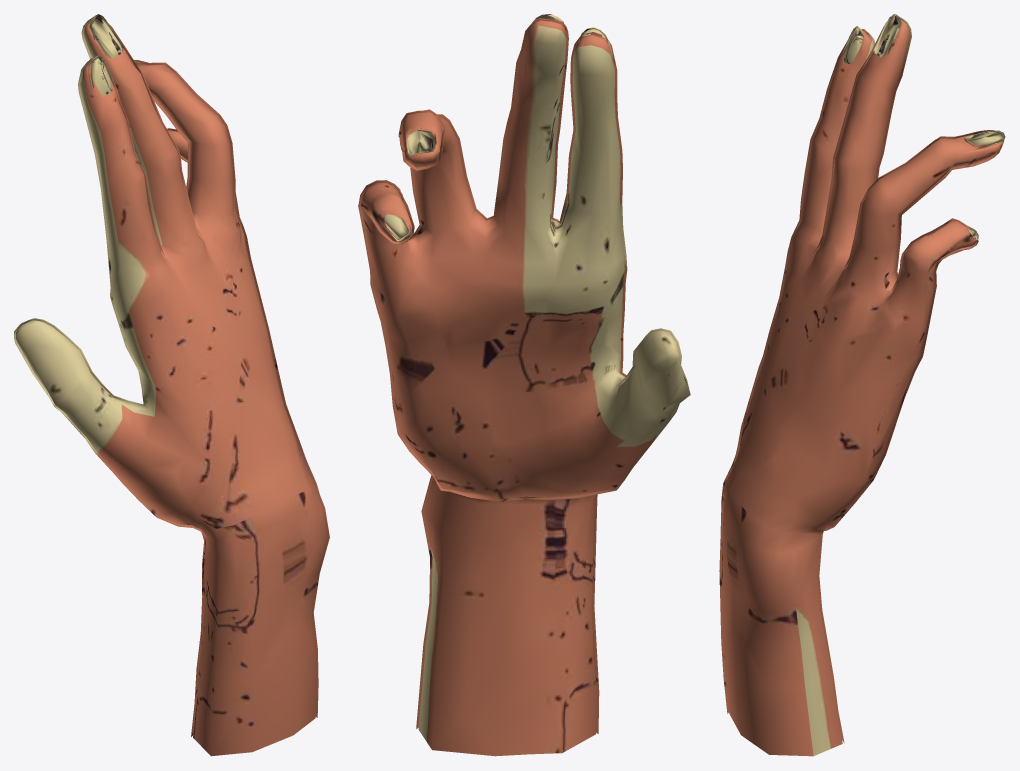
Rendered from hand-cartoon.glb.
3 renders of one model, left to right at view 1: azimuth 30°, elevation 25°; view 2: azimuth 150°, elevation 25°; view 3: azimuth 270°, elevation 25°, orthographic. The views are drawn at different scales.
Parts seen in each view (by area): view 1: retopohighres_bands_posed.003, retopohighres_bands_posed; view 2: retopohighres_bands_posed.003, retopohighres_bands_posed; view 3: retopohighres_bands_posed.003, retopohighres_bands_posed.
Boxes of the visible parts, x1,y1,x2,y2 form: retopohighres_bands_posed.003: (15,16,327,756); retopohighres_bands_posed: (14,14,329,736); retopohighres_bands_posed.003: (360,15,688,756); retopohighres_bands_posed: (358,14,690,733); retopohighres_bands_posed.003: (721,16,1003,756); retopohighres_bands_posed: (719,14,1005,743).
Bounding box in the file's own units: 0.3605 × 0.9038 × 0.3504.
Materials: 1 (1 with a texture image).
